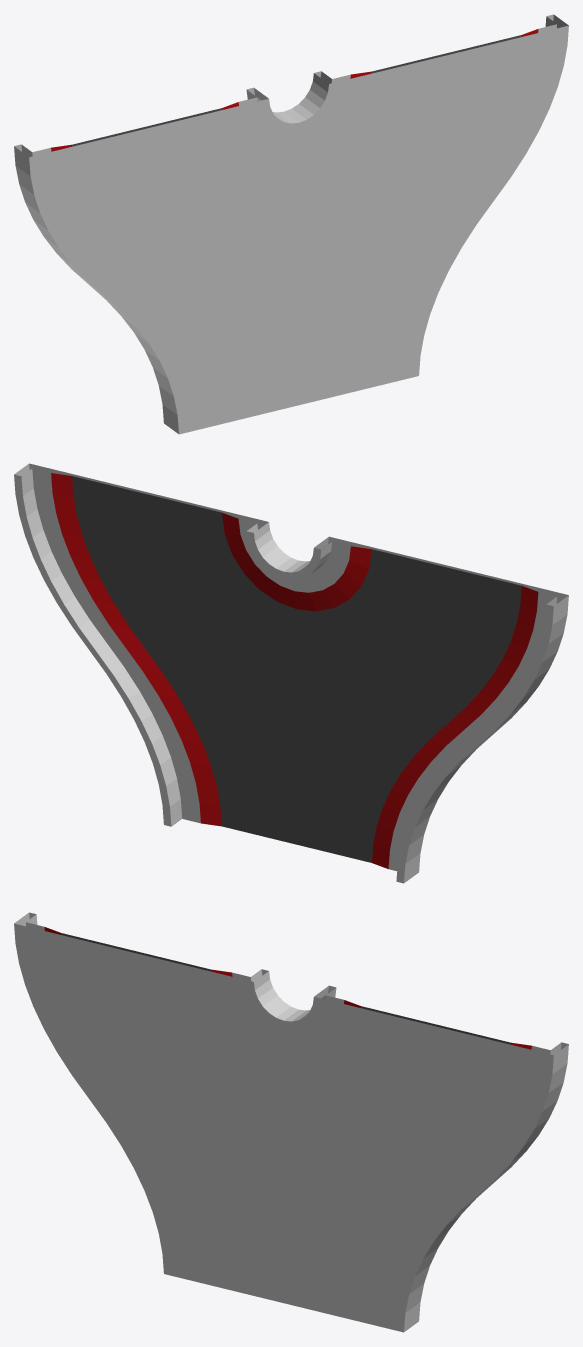
File: Fork_2 Way.fbx
The picture shows the model from 3 angles, top to bottom: view 1: azimuth 30°, elevation 25°; view 2: azimuth 150°, elevation 25°; view 3: azimuth 330°, elevation 25°; orthographic projection.
Visible parts, largest first — view 1: Fork_2 Way; view 2: Fork_2 Way; view 3: Fork_2 Way.
Part boxes in pixels (x1=…): Fork_2 Way: x1=14, y1=14, x2=568, y2=434; Fork_2 Way: x1=14, y1=463, x2=568, y2=883; Fork_2 Way: x1=14, y1=912, x2=568, y2=1332.
Bounding box in the file's own units: 2880 × 1600 × 140.
